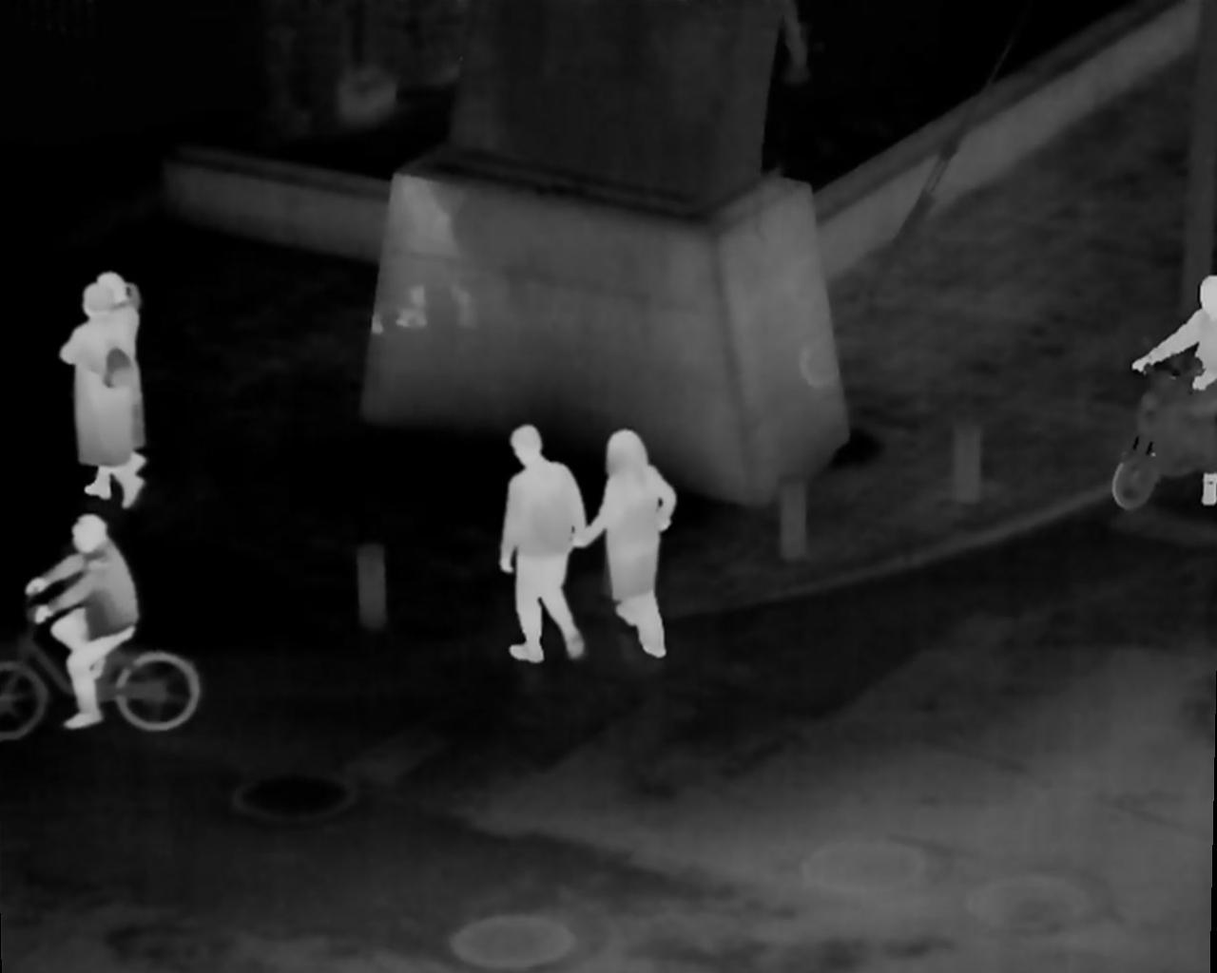person: (28, 514, 136, 729), (588, 421, 678, 662), (503, 419, 586, 659), (58, 283, 145, 508), (1143, 270, 1215, 497), (76, 268, 147, 474)
